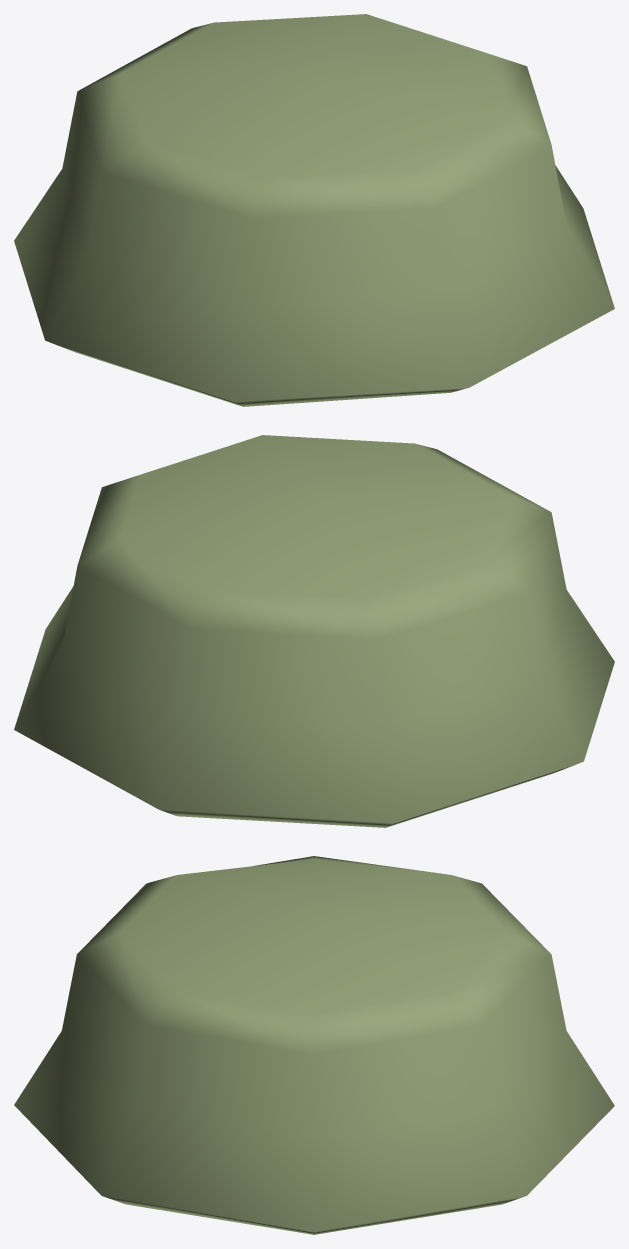
File: googah splat.fbx
3 views of the same model, one above another, from view 1: azimuth 30°, elevation 25°; view 2: azimuth 150°, elevation 25°; view 3: azimuth 270°, elevation 25° (orthographic). The views are drawn at different scales.
Visible parts, largest first — view 1: pPlane1; view 2: pPlane1; view 3: pPlane1.
Part boxes in pixels (x1=…): pPlane1: x1=14, y1=14, x2=614, y2=406; pPlane1: x1=14, y1=435, x2=614, y2=827; pPlane1: x1=14, y1=856, x2=614, y2=1234.
Size of the model in its own units: 2.2 by 0.89 by 2.2.
